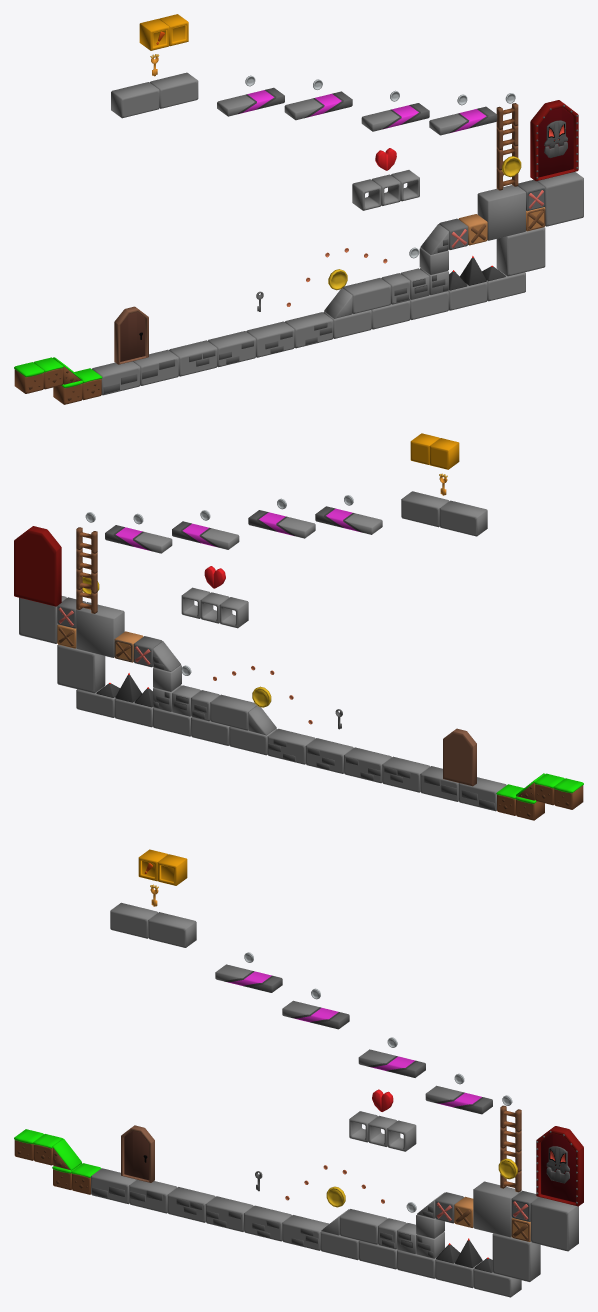
The model's file is showcasePlatformerBasicPack.f28b1b15.glb.
3 views of the same model, one above another, from view 1: azimuth 30°, elevation 25°; view 2: azimuth 150°, elevation 25°; view 3: azimuth 330°, elevation 25° (orthographic).
Visible parts, largest first — view 1: Cube.036, Cube.005, Cube.006, Cube.035, Cube.034, Cube.048, Cube.047, Cube.003, Cube.044, Cube.045, Cube.027, Cube.046 (+26 smaller); view 2: Cube.036, Cube.005, Cube.006, Cube.034, Cube.035, Cube.048, Cube.047, Cube.003, Cube.027, Cube.046, Cube.045, Cube.044 (+25 smaller); view 3: Cube.036, Cube.035, Cube.005, Cube.006, Cube.034, Cube.047, Cube.048, Cube.003, Cube.045, Cube.044, Cube.027, Cube.046 (+22 smaller).
Part boxes in pixels (left/top/right/bottom): Cube.036: left=530, top=100, right=578, bottom=181; Cube.005: left=477, top=185, right=525, bottom=240; Cube.006: left=496, top=227, right=545, bottom=276; Cube.035: left=537, top=172, right=583, bottom=226; Cube.034: left=114, top=306, right=148, bottom=364; Cube.048: left=111, top=82, right=159, bottom=118; Cube.047: left=150, top=72, right=198, bottom=108; Cube.003: left=343, top=278, right=390, bottom=313; Cube.044: left=361, top=103, right=429, bottom=131; Cube.045: left=284, top=91, right=352, bottom=120; Cube.027: left=429, top=106, right=497, bottom=135; Cube.046: left=217, top=87, right=284, bottom=116; Cube.036: left=14, top=526, right=61, bottom=606; Cube.005: left=76, top=602, right=124, bottom=657; Cube.006: left=57, top=644, right=105, bottom=693; Cube.034: left=443, top=728, right=476, bottom=786; Cube.035: left=19, top=596, right=66, bottom=643; Cube.048: left=439, top=500, right=487, bottom=536; Cube.047: left=401, top=491, right=448, bottom=527; Cube.003: left=210, top=694, right=256, bottom=730; Cube.027: left=105, top=525, right=172, bottom=553; Cube.046: left=315, top=506, right=382, bottom=534; Cube.045: left=248, top=510, right=315, bottom=538; Cube.044: left=172, top=521, right=239, bottom=549; Cube.036: left=536, top=1126, right=583, bottom=1206; Cube.035: left=530, top=1197, right=578, bottom=1251; Cube.005: left=473, top=1181, right=521, bottom=1237; Cube.006: left=492, top=1233, right=540, bottom=1281; Cube.034: left=121, top=1125, right=154, bottom=1182; Cube.047: left=148, top=912, right=196, bottom=947; Cube.048: left=110, top=902, right=157, bottom=938; Cube.003: left=339, top=1209, right=387, bottom=1244; Cube.045: left=282, top=1000, right=349, bottom=1029; Cube.044: left=358, top=1049, right=425, bottom=1077; Cube.027: left=425, top=1085, right=492, bottom=1114; Cube.046: left=215, top=964, right=282, bottom=992.
Size of the model in its own units: 5826 by 3500 by 254.
